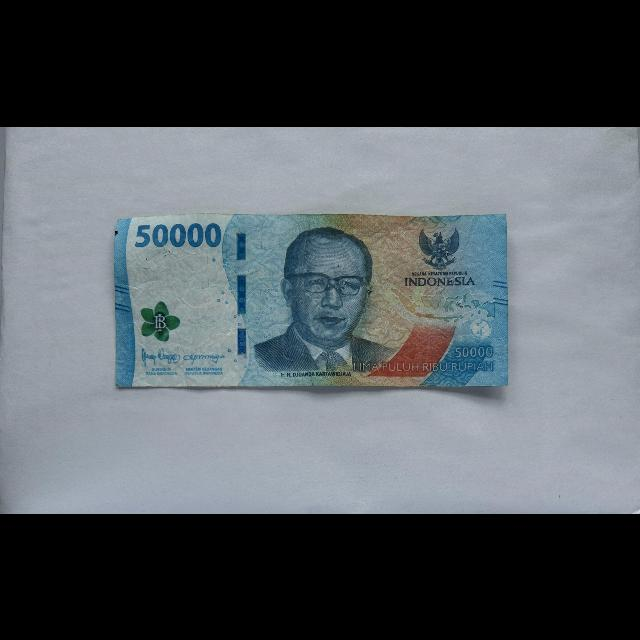Palsu-50k: (112, 211, 511, 388)
Tinta-Palsu-50k: (141, 301, 181, 342)
